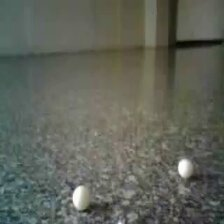w: (72, 186, 92, 209), (177, 158, 193, 179)
